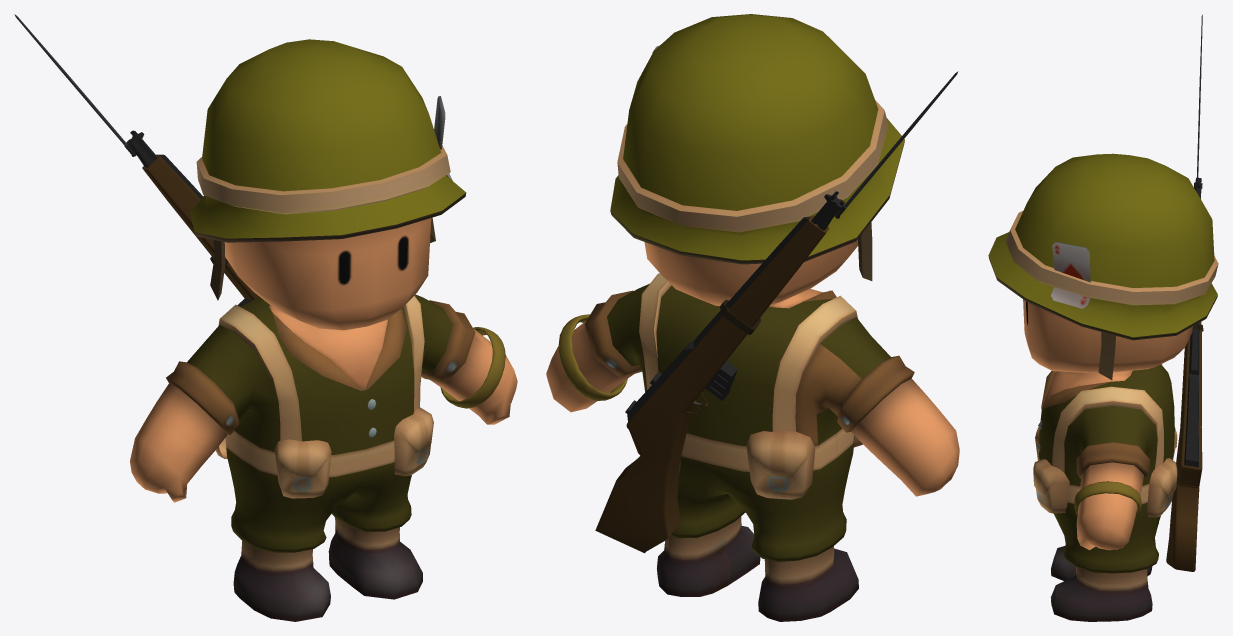
The model's file is StumbleYellow 1.fbx.
3 renders of one model, left to right at view 1: azimuth 30°, elevation 25°; view 2: azimuth 150°, elevation 25°; view 3: azimuth 270°, elevation 25°, orthographic. The views are drawn at different scales.
Parts seen in each view (by area): view 1: Player_SkinSoldier_002; view 2: Player_SkinSoldier_002; view 3: Player_SkinSoldier_002.
Boxes of the visible parts, x1,y1,x2,y2 form: Player_SkinSoldier_002: (14, 14, 517, 621); Player_SkinSoldier_002: (546, 14, 959, 621); Player_SkinSoldier_002: (988, 14, 1218, 621).
Bounding box in the file's own units: 0.4602 × 0.5895 × 0.2579.
8 materials, 1 textured.
